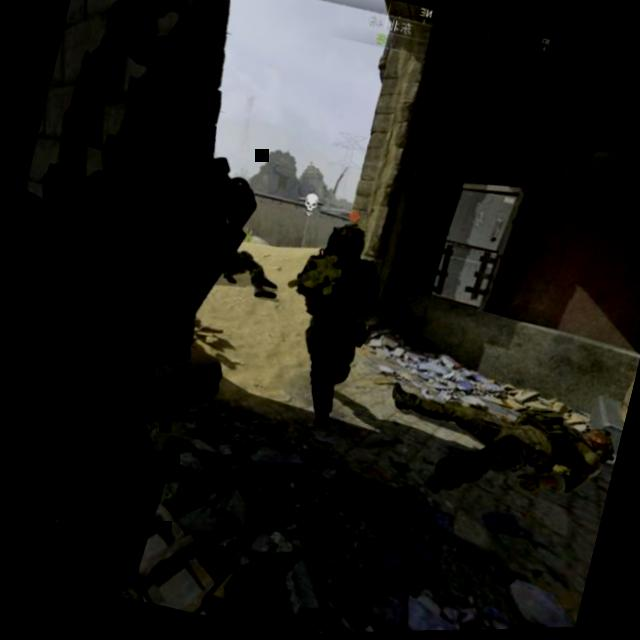MW2_body: (259, 200, 394, 434)
